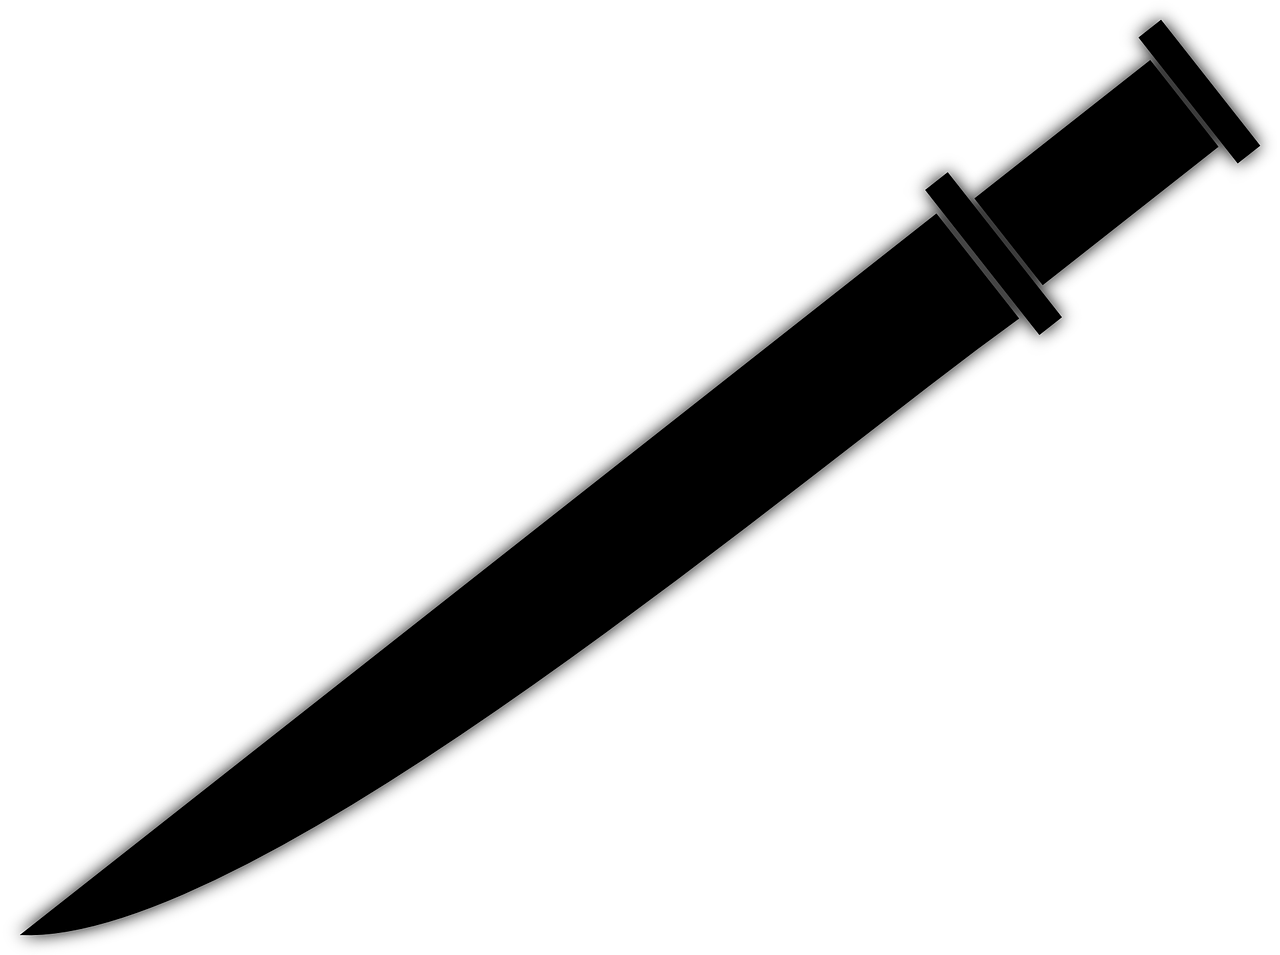knife: (16, 12, 1261, 954)
